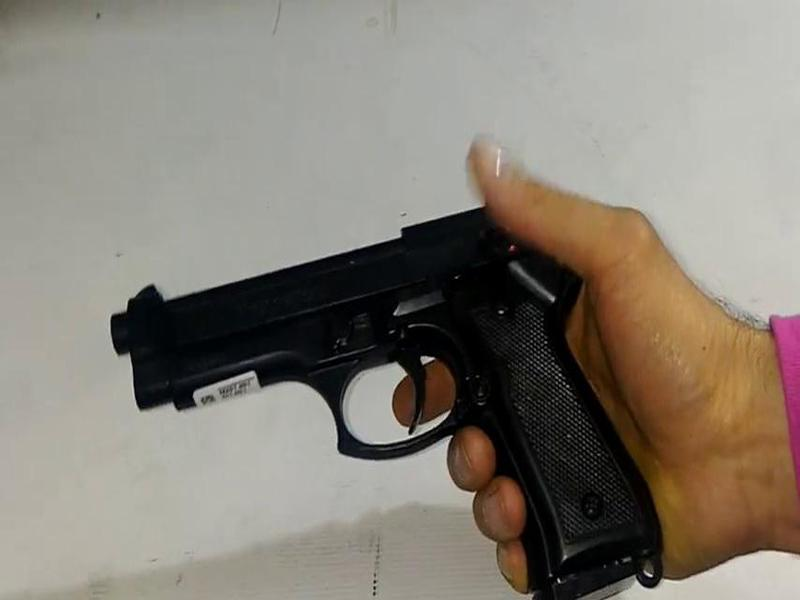Pistola: (126, 208, 664, 595)
